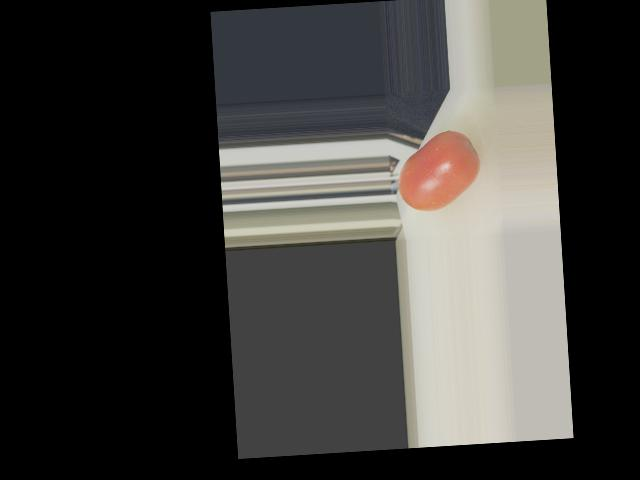tomato: (395, 129, 482, 212)
